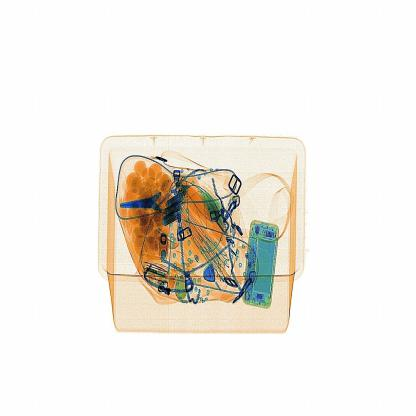gun: (112, 174, 179, 218)
